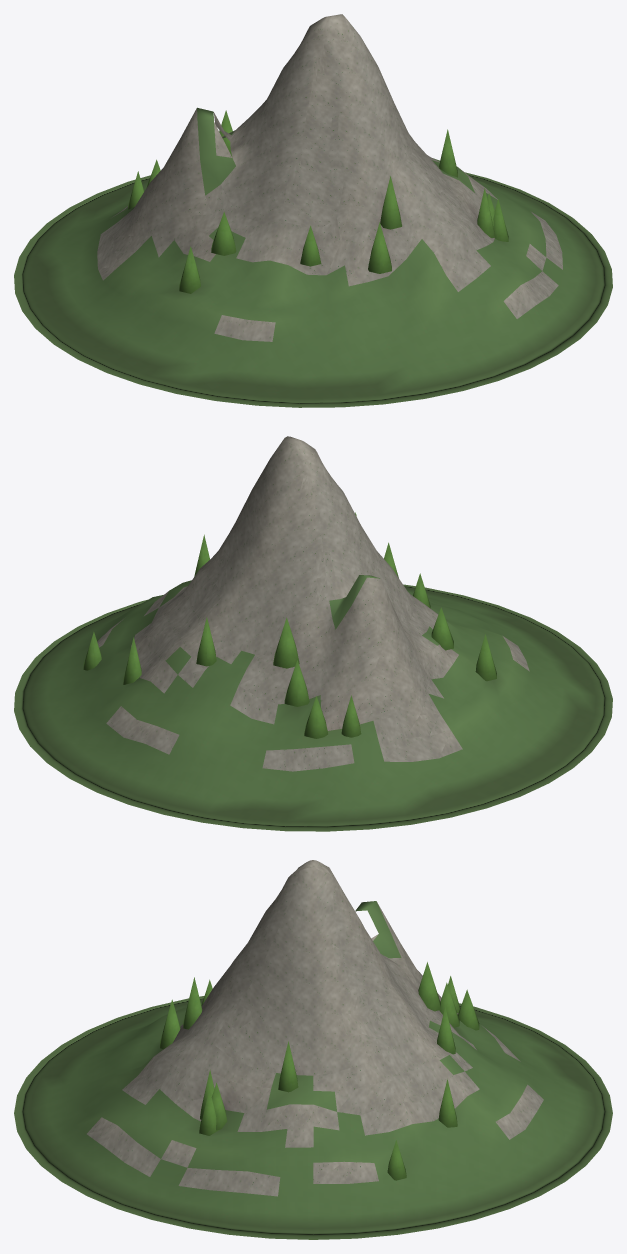
File: mountain.2.glb
3 views of the same model, one above another, from view 1: azimuth 30°, elevation 25°; view 2: azimuth 150°, elevation 25°; view 3: azimuth 270°, elevation 25° (orthographic).
Parts seen in each view (by area): view 1: scenery.mountain.2; view 2: scenery.mountain.2; view 3: scenery.mountain.2.
Part boxes in pixels (x1=…): scenery.mountain.2: x1=14, y1=14, x2=612, y2=407; scenery.mountain.2: x1=14, y1=436, x2=612, y2=831; scenery.mountain.2: x1=14, y1=860, x2=612, y2=1239.
Size of the model in its own units: 42 by 20.15 by 42.
3 materials, 3 textured.
